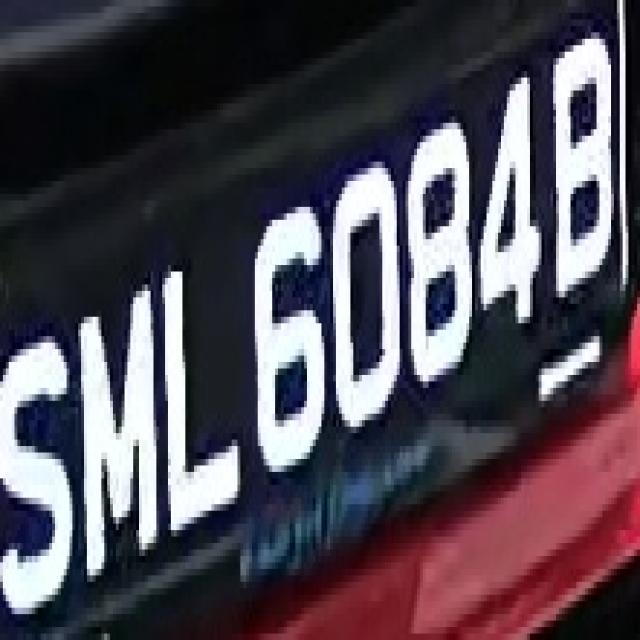0: (327, 168, 414, 472)
4: (469, 65, 550, 342)
6: (249, 207, 324, 498)
8: (394, 123, 481, 401)
B: (547, 20, 617, 336)
L: (159, 239, 246, 530)
M: (70, 272, 162, 594)
S: (6, 323, 75, 614)
